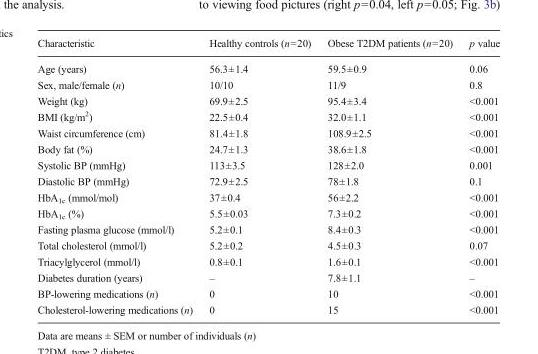table: (36, 36, 499, 315)
table column: (36, 36, 200, 315), (318, 36, 460, 315), (200, 36, 318, 315), (460, 36, 499, 315)
table column header: (36, 36, 499, 55)
table row: (36, 55, 499, 76), (36, 36, 499, 55), (36, 107, 499, 124), (36, 188, 499, 205), (36, 236, 499, 253), (36, 76, 499, 92), (36, 124, 499, 140), (36, 140, 499, 156), (36, 156, 499, 172), (36, 172, 499, 188), (36, 205, 499, 221), (36, 253, 499, 269), (36, 269, 499, 285), (36, 285, 499, 301), (36, 92, 499, 107), (36, 221, 499, 236), (36, 301, 499, 315)
